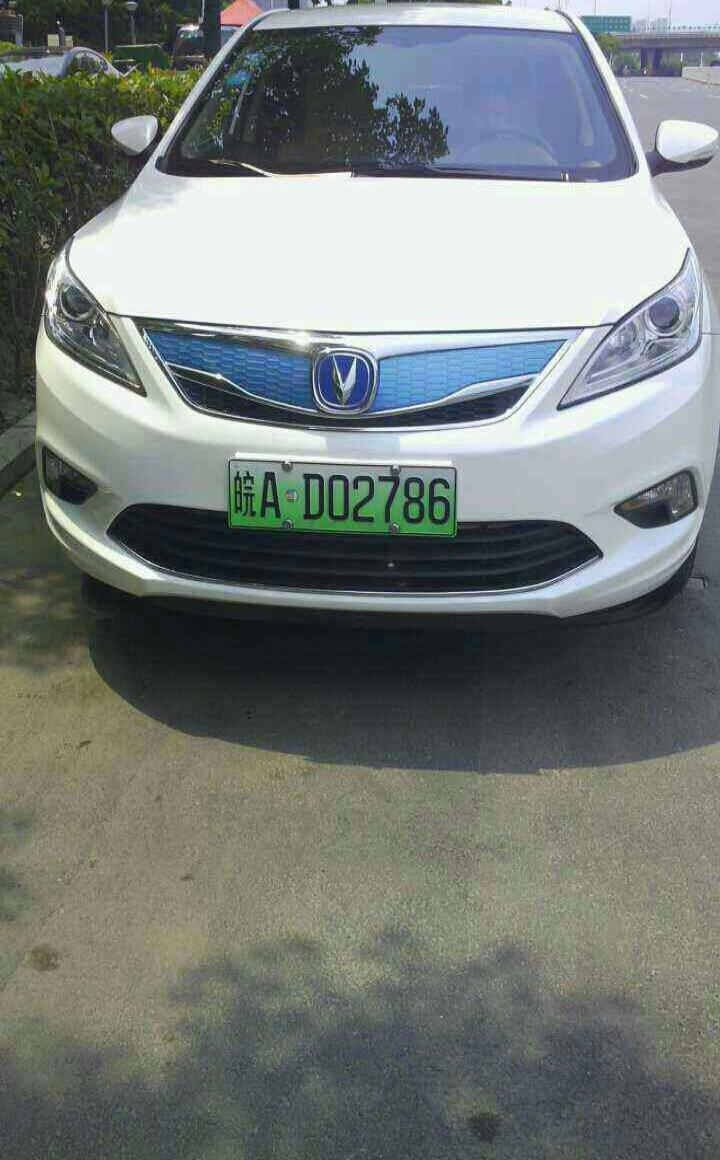car_id: (232, 460, 456, 537)
